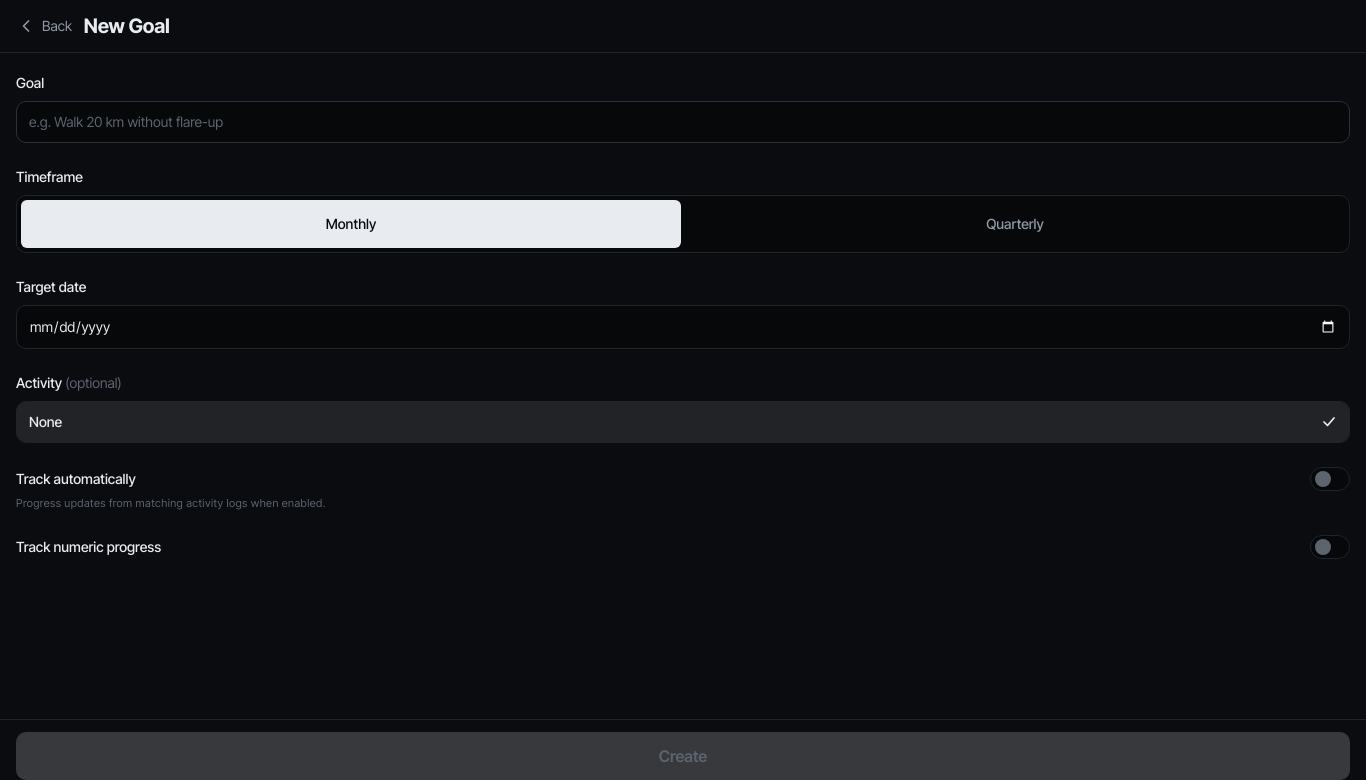
Test: GoalEditorScreen — numeric progress toggle › progressTarget input appears after toggling ON
Click the switch named "track numeric progress" in the row of "Track numeric progress". click: {"x": 1330, "y": 547}
box: [1310,535,1350,559]
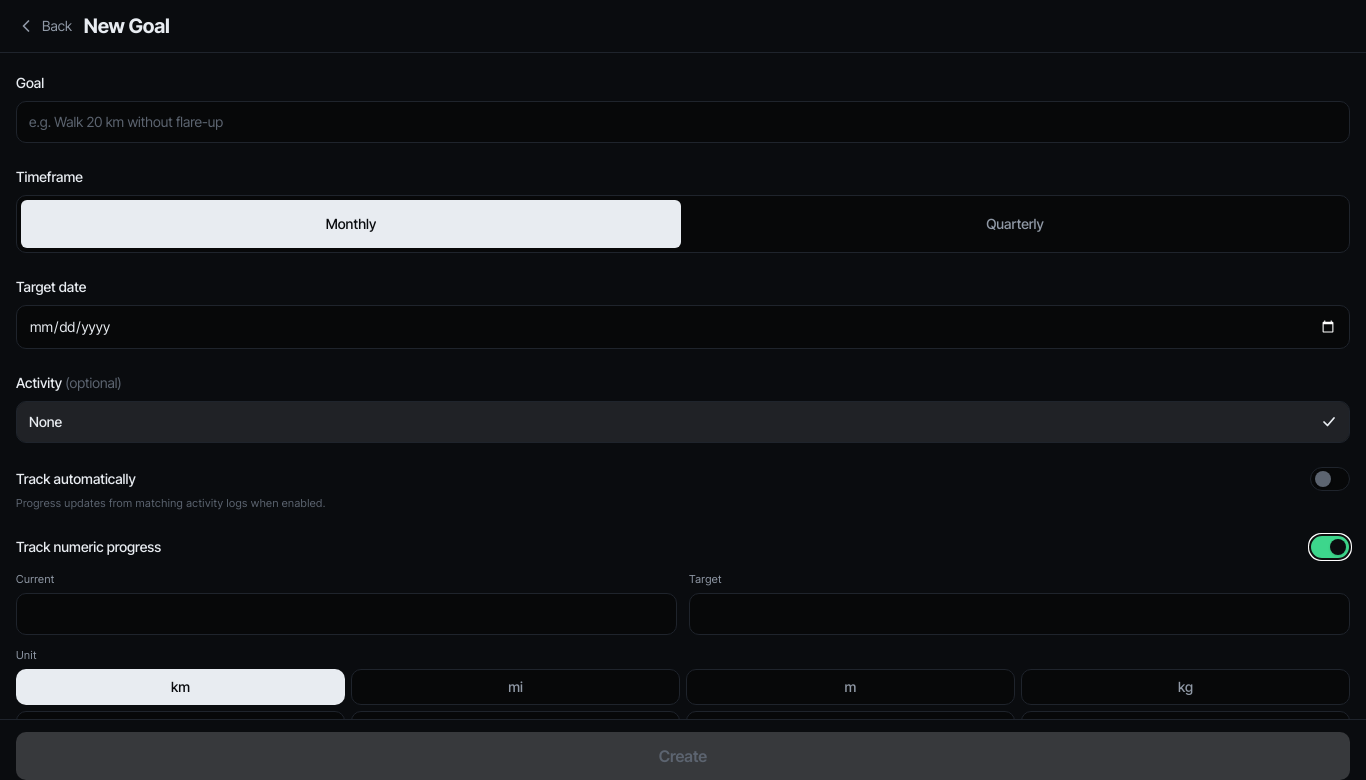
Check: the number field labelled "Target" is shown, box [689,593,1350,635]
